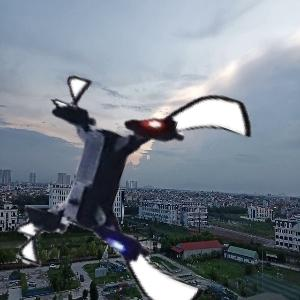drone: (23, 70, 252, 299)
